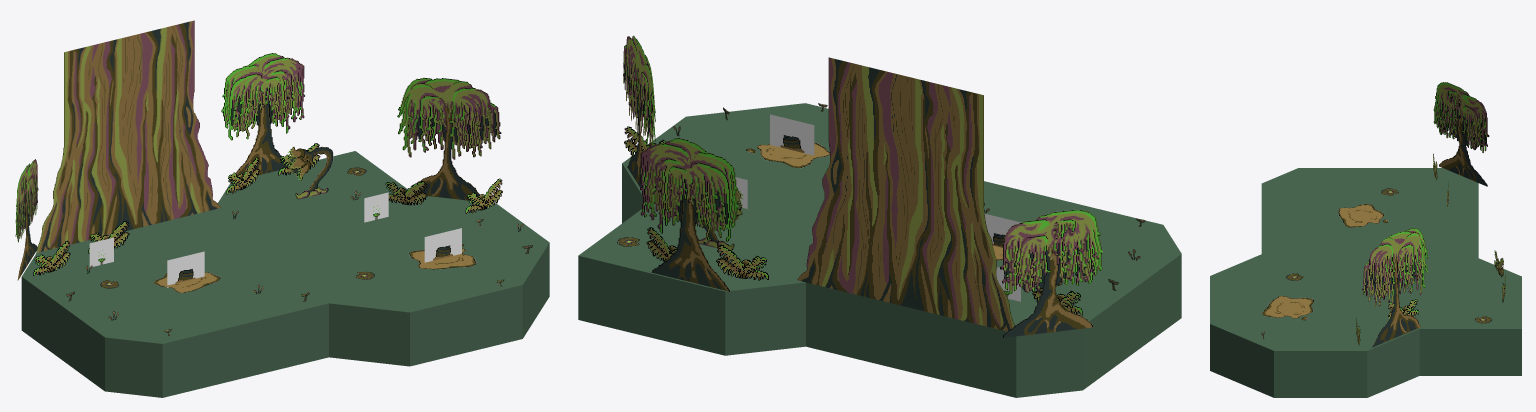
File: Nivel3.fbx
3 renders of one model, left to right at view 1: azimuth 30°, elevation 25°; view 2: azimuth 150°, elevation 25°; view 3: azimuth 270°, elevation 25°, orthographic. The views are drawn at different scales.
Parts seen in each view (by area): view 1: Base.004, Sequoia, Arbol 1, Arbol 2, Arbol 3, Planta carnivora 9, Barril 1.001, Barril 1, Barro 1, Helecho.001, Helecho.002, Helecho (+5 smaller); view 2: Base.004, Sequoia, Arbol 2, Arbol 3, Arbol 1, Barril 1.001, Helecho.004, Barro 1, Barril 1, Helecho.005; view 3: Base.004, Arbol 1, Arbol 3, Barro 1, Barro 1.001.
Part boxes in pixels (x1,y1,x2,y2): Base.004: [21, 151, 549, 397]; Sequoia: [36, 20, 220, 253]; Arbol 1: [397, 77, 501, 200]; Arbol 2: [221, 53, 305, 182]; Arbol 3: [15, 159, 38, 280]; Planta carnivora 9: [288, 147, 333, 199]; Barril 1.001: [424, 228, 461, 262]; Barril 1: [167, 251, 204, 287]; Barro 1: [408, 244, 476, 269]; Helecho.001: [385, 181, 427, 205]; Helecho.002: [33, 240, 70, 275]; Helecho: [465, 178, 502, 213]; Base.004: [578, 103, 1181, 397]; Sequoia: [797, 57, 1014, 331]; Arbol 2: [639, 137, 739, 291]; Arbol 3: [999, 209, 1102, 337]; Arbol 1: [623, 35, 655, 187]; Barril 1.001: [770, 114, 814, 155]; Helecho.004: [716, 244, 768, 280]; Barro 1: [746, 142, 829, 168]; Barril 1: [984, 213, 1021, 247]; Helecho.005: [646, 227, 676, 261]; Base.004: [1210, 168, 1521, 397]; Arbol 1: [1362, 228, 1428, 347]; Arbol 3: [1433, 82, 1489, 186]; Barro 1: [1262, 296, 1314, 320]; Barro 1.001: [1338, 204, 1388, 227].
Bounding box in the file's own units: 1743 × 918 × 1203.
15 materials, 14 textured.
